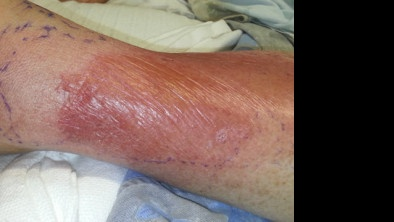SJS-TEN: (0, 0, 318, 209)
